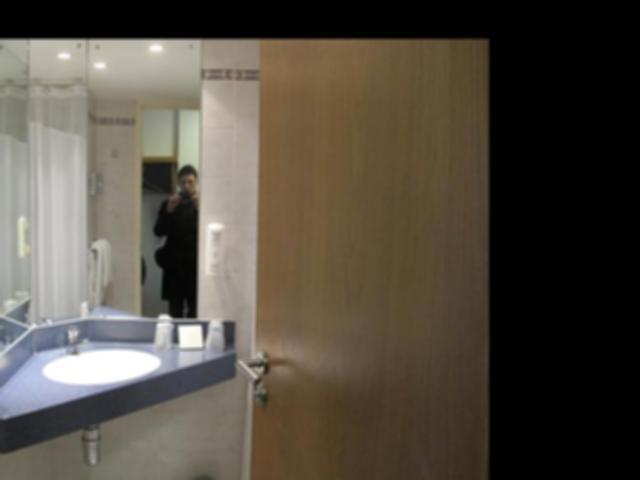Bote de Basura: (185, 472, 225, 480)
Lavamanos: (37, 313, 161, 395)
